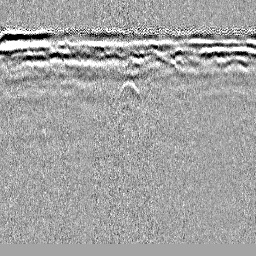cavity: (116, 79, 143, 102)
